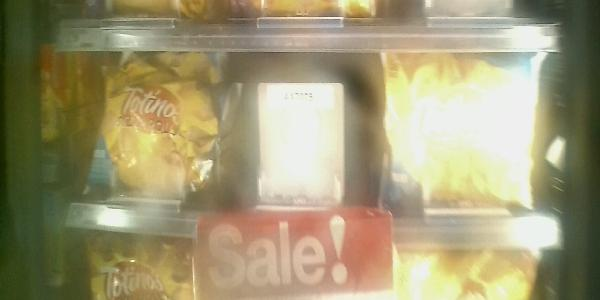icecream: (377, 52, 546, 215), (81, 56, 223, 214)
